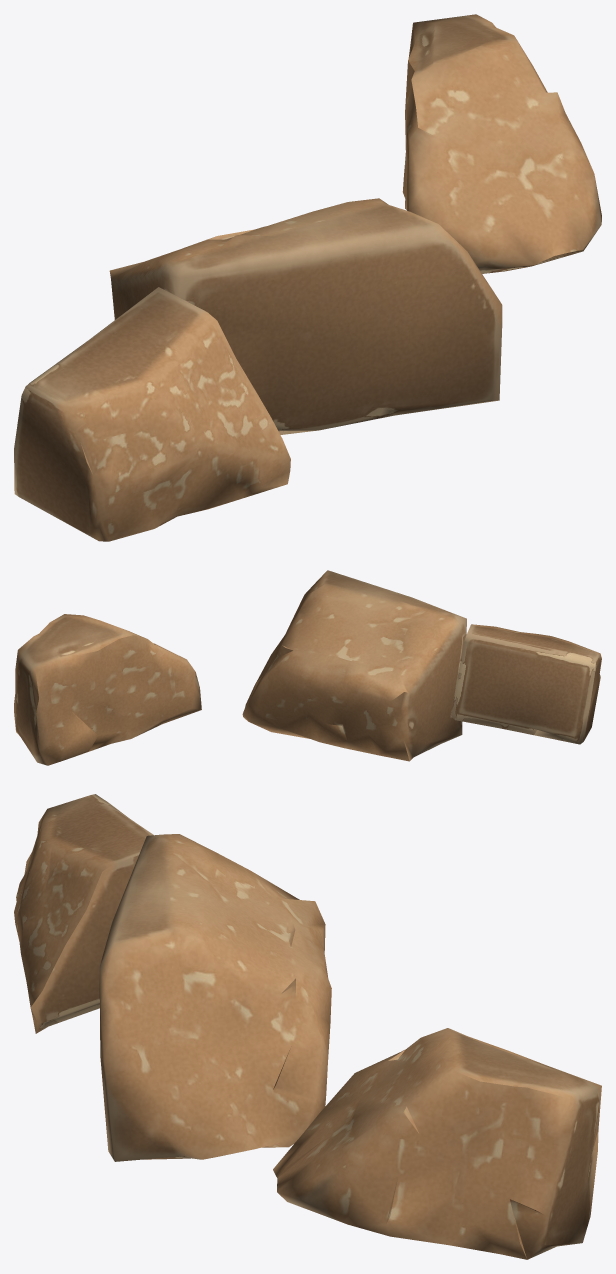
File: rubble_b.glb
3 views of the same model, one above another, from view 1: azimuth 30°, elevation 25°; view 2: azimuth 150°, elevation 25°; view 3: azimuth 270°, elevation 25° (orthographic). The views are drawn at different scales.
Visible parts, largest first — view 1: rubble_b; view 2: rubble_b; view 3: rubble_b.
Boxes of the visible parts, x1,y1,x2,y2 form: rubble_b: [14, 14, 601, 541]; rubble_b: [14, 570, 601, 765]; rubble_b: [14, 794, 601, 1259].
Size of the model in its own units: 1.14 by 0.3057 by 0.8205.
Materials: 1 (1 with a texture image).
